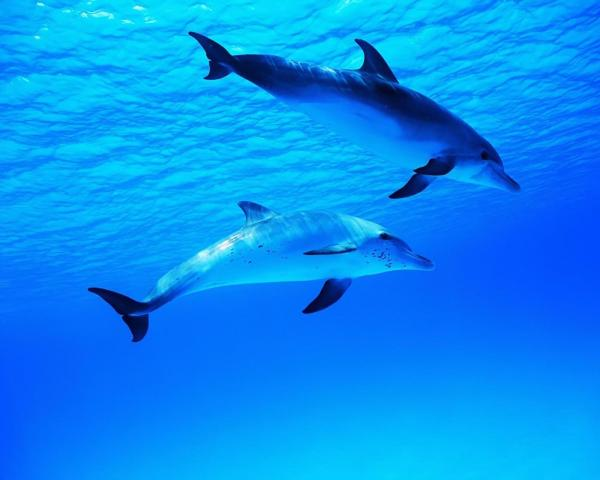dolphin: (185, 17, 530, 214), (83, 181, 448, 354)
